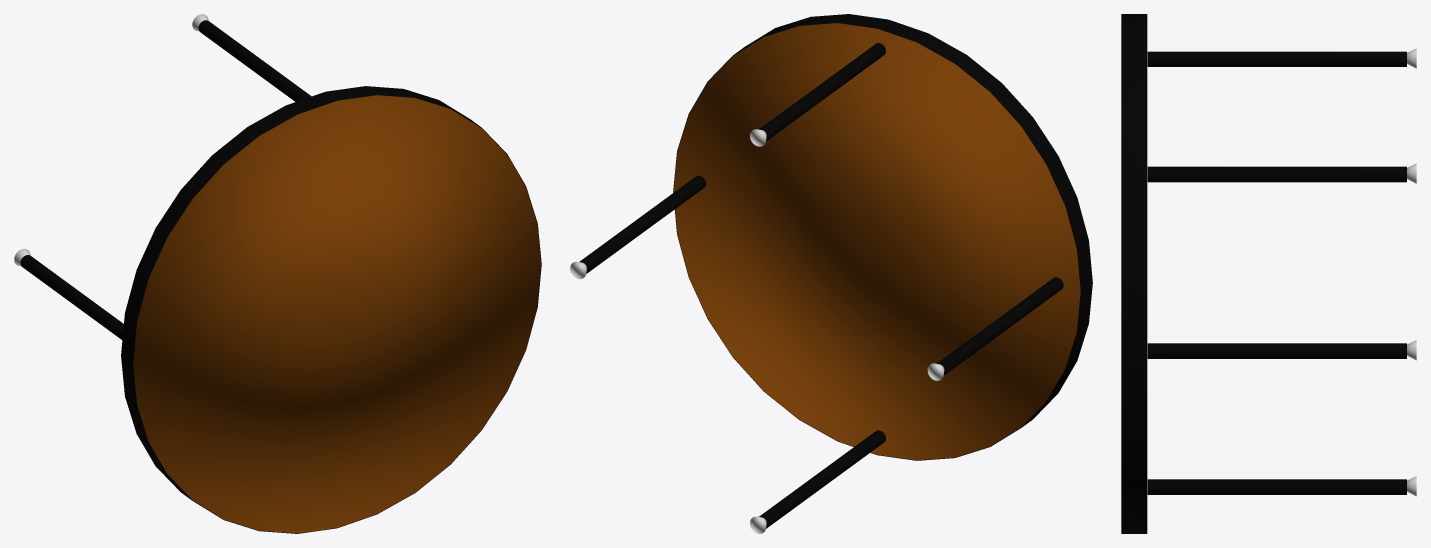
File: RoundTableLowRes.fbx
3 views of the same model, side by side, from view 1: azimuth 30°, elevation 25°; view 2: azimuth 150°, elevation 25°; view 3: azimuth 270°, elevation 25° (orthographic). The views are drawn at different scales.
Parts seen in each view (by area): view 1: Cylinder_003; view 2: Cylinder_003; view 3: Cylinder_003.
Boxes of the visible parts, x1,y1,x2,y2 form: Cylinder_003: (14, 14, 541, 533); Cylinder_003: (570, 14, 1092, 533); Cylinder_003: (1121, 14, 1416, 533).
Size of the model in its own units: 4.01 by 4.01 by 2.28.
